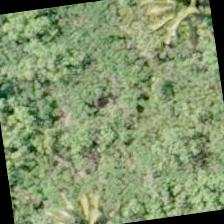Kelapa_Sawit: (34, 174, 131, 223), (144, 0, 216, 46)
